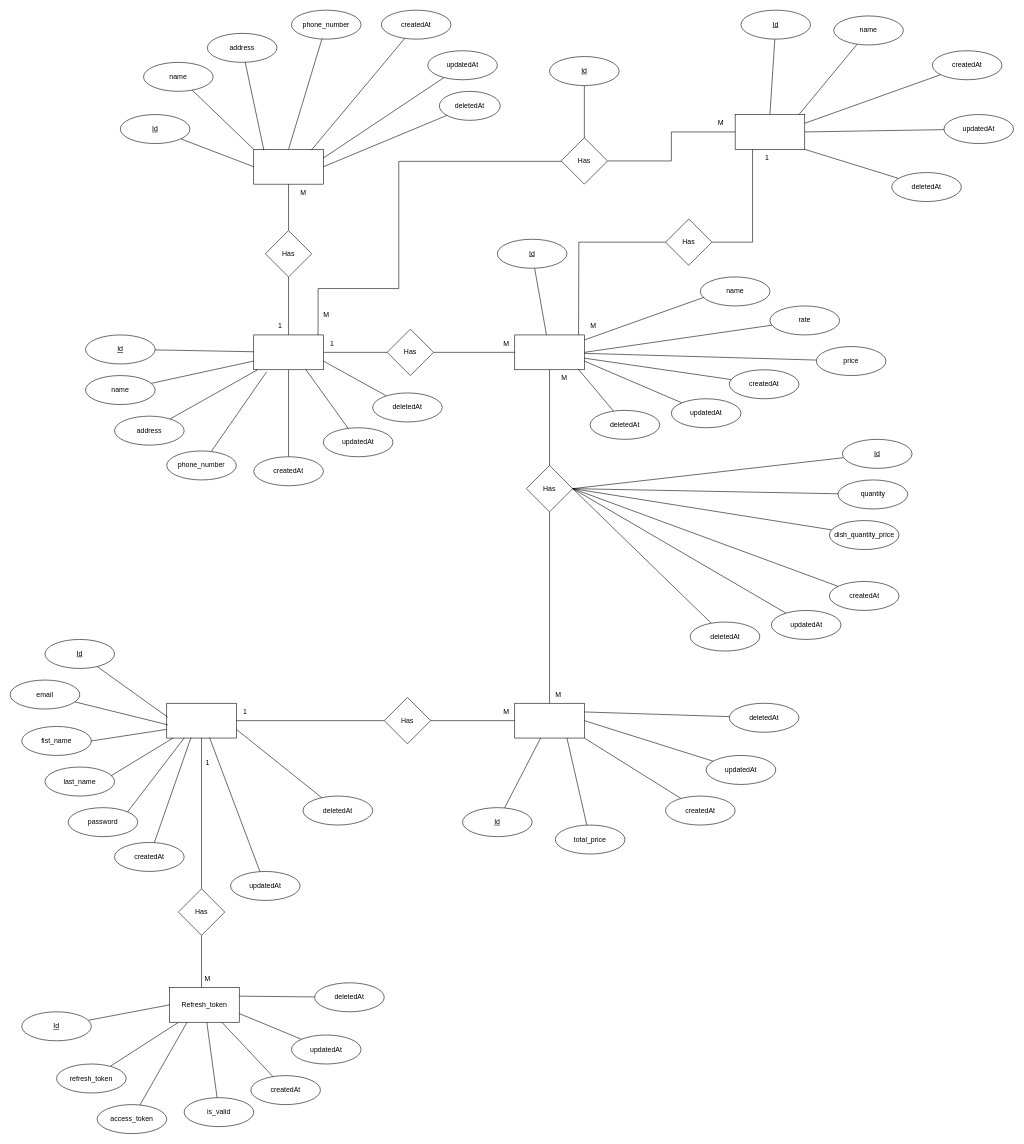
This 1024x1144 diagram has some shape labels left out. The centre of each missing label's shape, as x and y in pixels:
"Dish" goes at pixel 549 352.
"Dish_category" goes at pixel 770 131.
"Order" goes at pixel 549 720.
"Resturant" goes at pixel 288 352.
"Staff" goes at pixel 288 166.
"User" goes at pixel 201 720.
